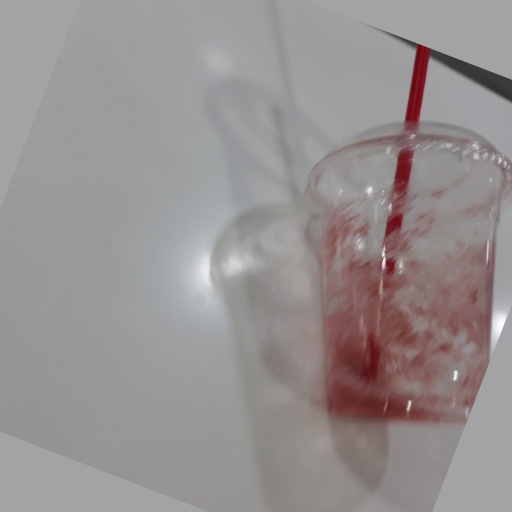Plastic_2: (308, 48, 498, 421)
